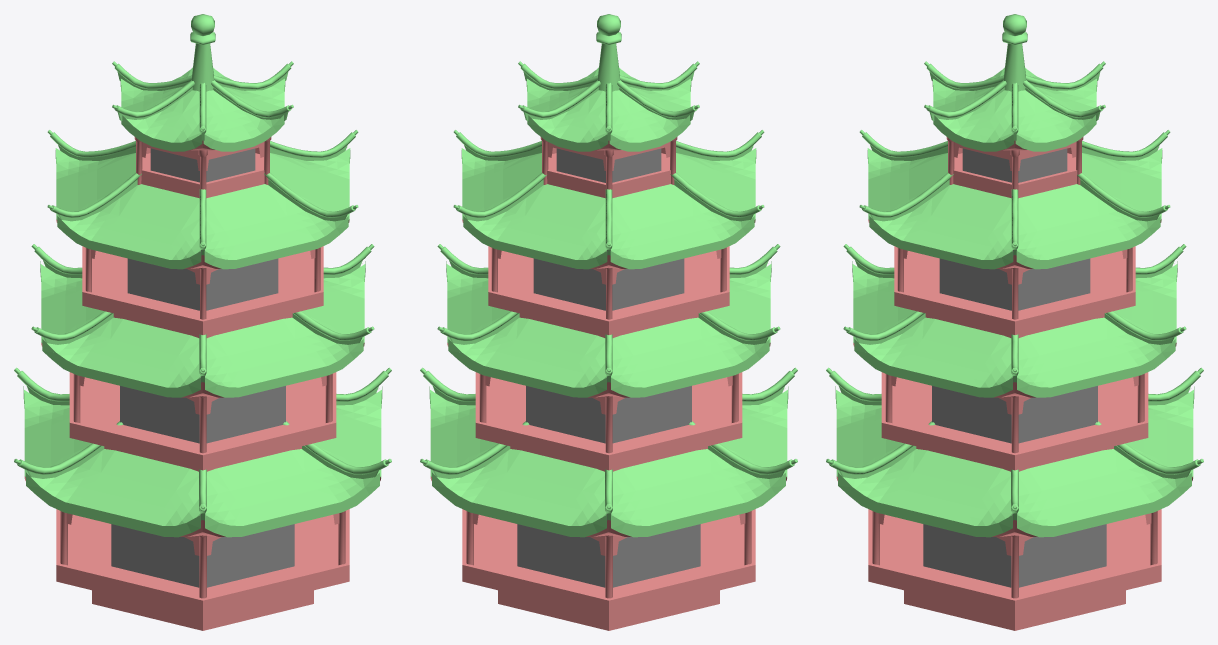
Rendered from CHN_OOB_Building07_CMB.gltf.
3 views of the same model, side by side, from view 1: azimuth 30°, elevation 25°; view 2: azimuth 150°, elevation 25°; view 3: azimuth 270°, elevation 25° (orthographic).
Visible parts, largest first — view 1: CHN_OOB_Building07_CMB; view 2: CHN_OOB_Building07_CMB; view 3: CHN_OOB_Building07_CMB.
Part boxes in pixels (left/top/right/bottom): CHN_OOB_Building07_CMB: left=14, top=14, right=391, bottom=630; CHN_OOB_Building07_CMB: left=420, top=14, right=797, bottom=630; CHN_OOB_Building07_CMB: left=826, top=14, right=1203, bottom=630.
Bounding box in the file's own units: 42.98 × 61.17 × 37.33.
